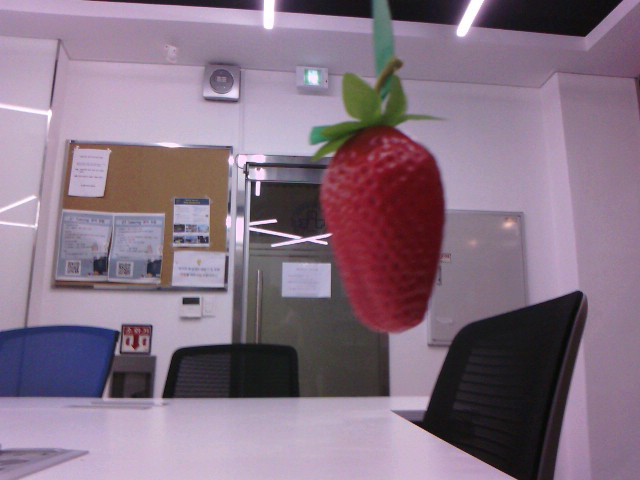strawberry: (311, 108, 455, 334)
